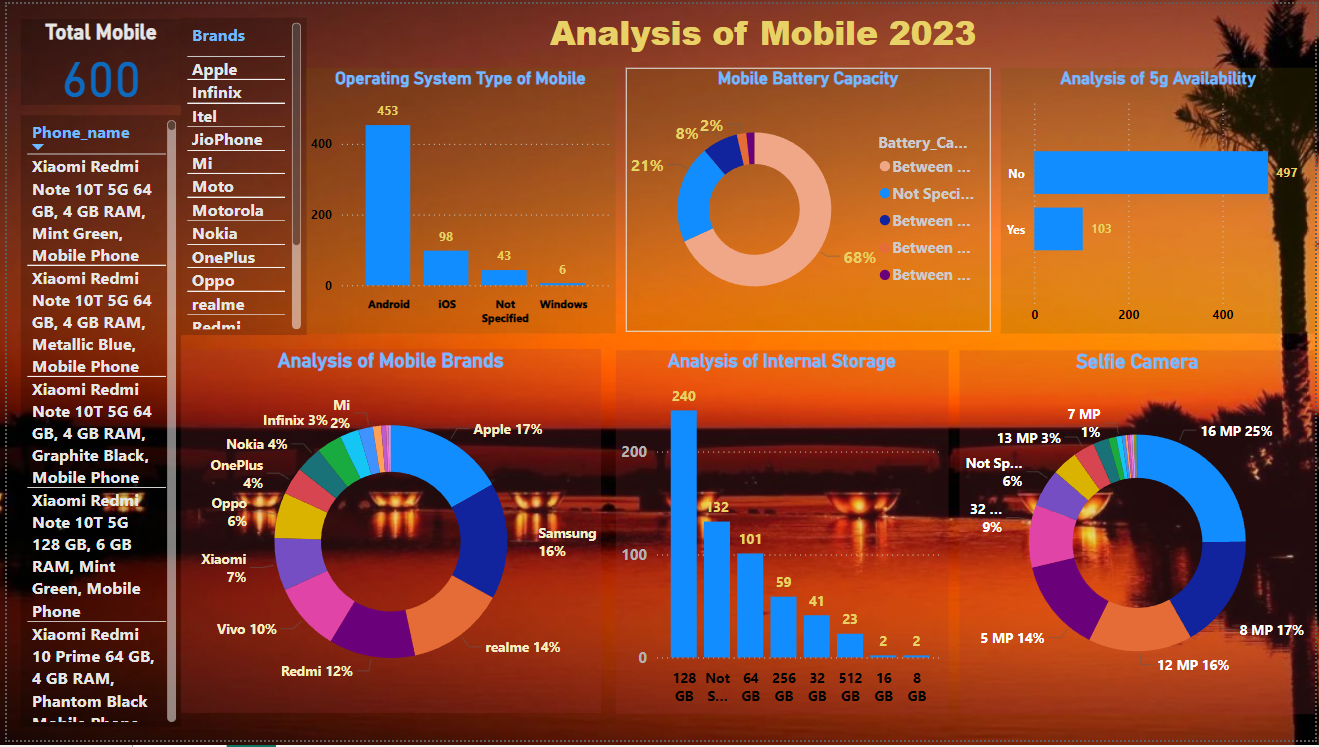

This screenshot's page, from the dashboard's own definition file:
{"tool":"powerbi","page":{"name":"Page 1","canvas":[1280,720],"ordinal":0},"visuals":[{"type":"card","title":"Total Mobile","fields":{"Values":["mobile_data mobile.Total_Mobile"]},"box":[12.9,14.3,157.1,84.3],"z":0},{"type":"tableEx","fields":{"Values":["mobile_data mobile.Phone_name"]},"box":[12.9,108.6,157.1,598.6],"z":1000},{"type":"tableEx","fields":{"Values":["mobile_data mobile.Brands"]},"box":[170,12.9,122.9,310],"z":2000},{"type":"clusteredColumnChart","title":"Operating System Type of Mobile","fields":{"Category":["mobile_data mobile.Operating_System_Type"],"Y":["mobile_data mobile.Total_Mobile"]},"box":[292.9,62.9,302.9,260],"z":3000},{"type":"donutChart","title":"Mobile Battery Capacity","fields":{"Category":["mobile_data mobile.Battery_Capacity_Range"],"Y":["mobile_data mobile.Total_Mobile"]},"box":[605.6,62.5,356.9,258.3],"z":4000},{"type":"barChart","title":"Analysis of 5g Availability","fields":{"Category":["mobile_data mobile.5G_Availability"],"Y":["mobile_data mobile.Total_Mobile"]},"box":[972.2,62.5,308.3,259.7],"z":5000},{"type":"donutChart","title":"Analysis of Mobile Brands","fields":{"Category":["mobile_data mobile.Brands"],"Y":["mobile_data mobile.Total_Mobile"]},"box":[170,337.1,411.4,355.7],"z":6000},{"type":"columnChart","title":"Analysis of Internal Storage","fields":{"Category":["mobile_data mobile.Internal_Storage"],"Y":["mobile_data mobile.Total_Mobile"]},"box":[595.7,338.6,325.7,355.7],"z":7000},{"type":"donutChart","title":"Selfie Camera","fields":{"Category":["mobile_data mobile.Selfie_Camera"],"Y":["mobile_data mobile.Total_Mobile"]},"box":[931.4,338.6,348.6,355.7],"z":8000},{"type":"textbox","box":[444.3,0,591.4,57.1],"z":8001}]}

Visuals, with their boxes in screenshot pixels (x1, y1, x2, y2), scaled from the page's 1280x720 canvas onto the 1319x747 screenshot:
"Total Mobile" card: (x1=13, y1=15, x2=175, y2=102)
tableEx - mobile_data mobile.Phone_name: (x1=13, y1=113, x2=175, y2=734)
tableEx - mobile_data mobile.Brands: (x1=175, y1=13, x2=302, y2=335)
"Operating System Type of Mobile" clusteredColumnChart: (x1=302, y1=65, x2=614, y2=335)
"Mobile Battery Capacity" donutChart: (x1=624, y1=65, x2=992, y2=333)
"Analysis of 5g Availability" barChart: (x1=1002, y1=65, x2=1318, y2=334)
"Analysis of Mobile Brands" donutChart: (x1=175, y1=350, x2=599, y2=719)
"Analysis of Internal Storage" columnChart: (x1=614, y1=351, x2=949, y2=720)
"Selfie Camera" donutChart: (x1=960, y1=351, x2=1318, y2=720)
textbox: (x1=458, y1=0, x2=1067, y2=59)
